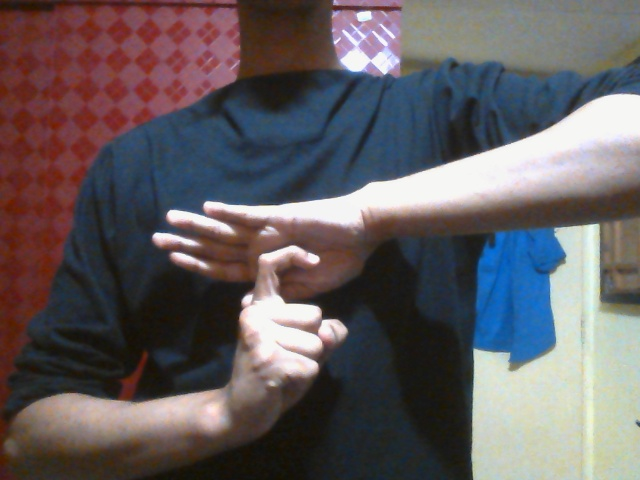R: (149, 195, 381, 431)
